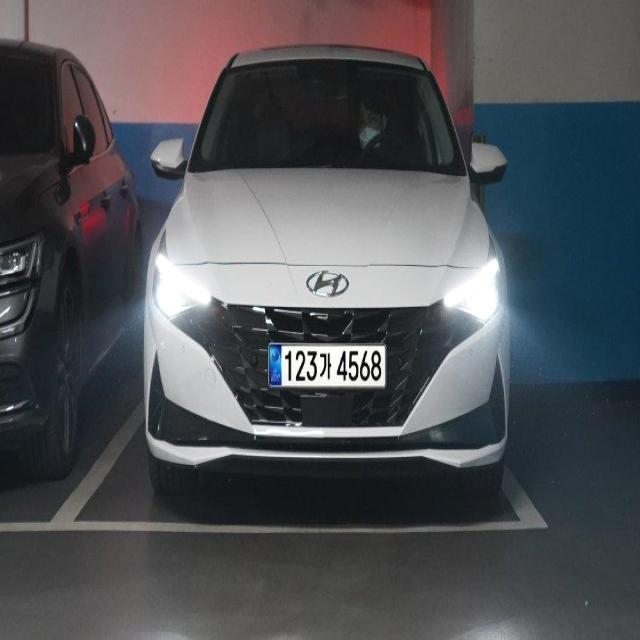car: (141, 46, 524, 486)
illegal_plate: (270, 341, 386, 394)
